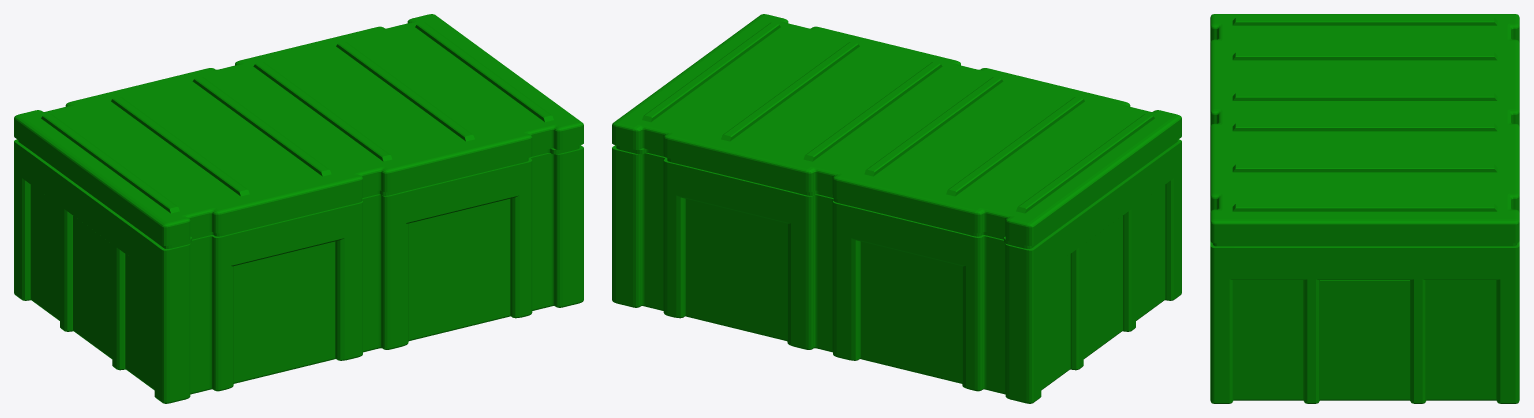
Rendered from Footlocker military.fbx.
3 renders of one model, left to right at view 1: azimuth 30°, elevation 25°; view 2: azimuth 150°, elevation 25°; view 3: azimuth 270°, elevation 25°, orthographic.
Visible parts, largest first — view 1: Footlocker; view 2: Footlocker; view 3: Footlocker.
Boxes of the visible parts, box(x1,y1,x2,y2) form: Footlocker: box(14, 14, 583, 403); Footlocker: box(612, 14, 1181, 403); Footlocker: box(1210, 14, 1519, 403).
Bounding box in the file's own units: 93 × 38.8 × 58.
